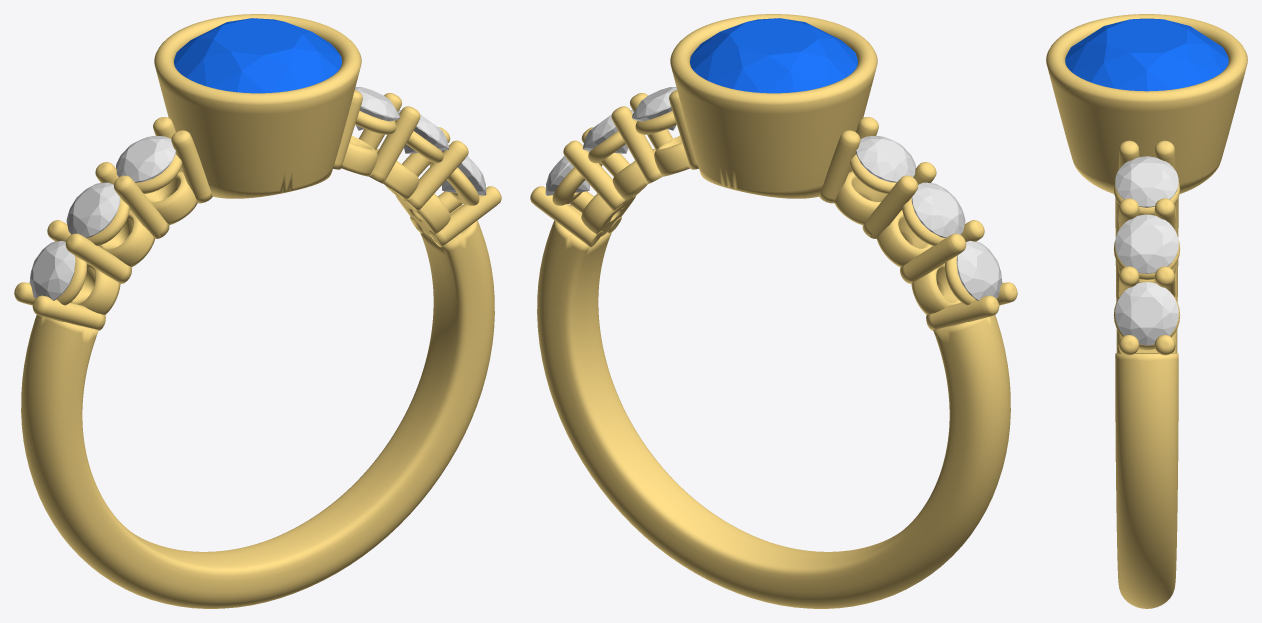
The model's file is bluesapphire-round-yellowgold-bezelset-straightband-3stone.glb.
3 views of the same model, side by side, from view 1: azimuth 30°, elevation 25°; view 2: azimuth 150°, elevation 25°; view 3: azimuth 270°, elevation 25° (orthographic). The views are drawn at different scales.
Visible parts, largest first — view 1: metal, stone, side.004, side.005, side.003, side, side.001, side.002; view 2: metal, stone, side.004, side.005, side.003, side, side.001, side.002; view 3: metal, stone, side.002, side.001, side.
Part boxes in pixels (x1,y1,x2,y2): metal: (14, 14, 501, 608); stone: (174, 18, 341, 93); side.004: (66, 182, 120, 237); side.005: (29, 240, 75, 300); side.003: (116, 136, 175, 182); side: (355, 87, 399, 130); side.001: (398, 110, 449, 153); side.002: (441, 150, 486, 195); metal: (530, 14, 1017, 608); stone: (690, 18, 857, 93); side.004: (911, 182, 965, 237); side.005: (956, 240, 1002, 300); side.003: (856, 136, 915, 182); side: (632, 87, 676, 130); side.001: (582, 110, 633, 153); side.002: (545, 150, 590, 195); metal: (1046, 14, 1247, 608); stone: (1065, 18, 1228, 91); side.002: (1115, 282, 1178, 345); side.001: (1115, 214, 1178, 273); side: (1115, 156, 1178, 207).
Size of the model in its own units: 20.58 by 23.81 by 7.94.
